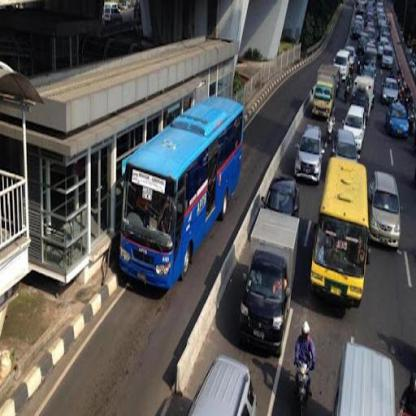bus: (116, 97, 245, 296)
car: (368, 170, 405, 248), (297, 122, 324, 184), (342, 105, 371, 155), (385, 102, 412, 142), (381, 72, 398, 102)
